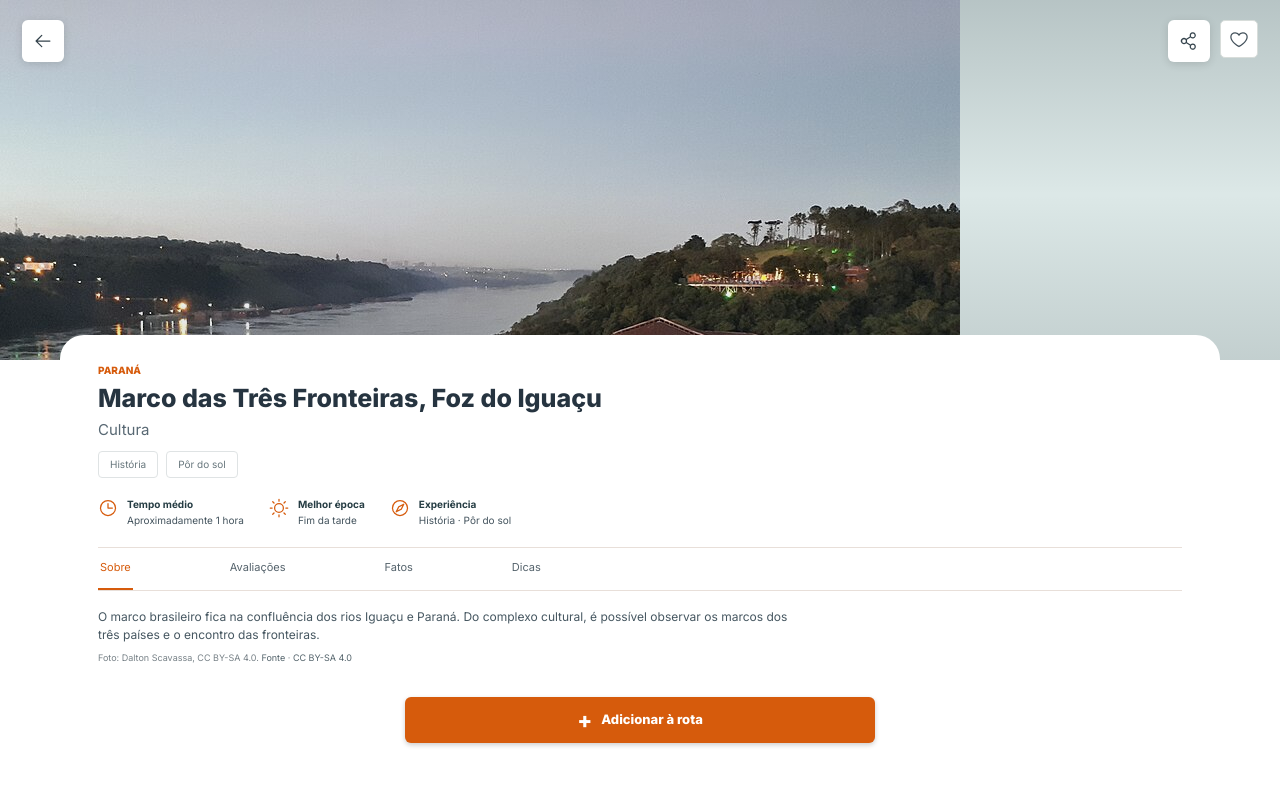
Test case: tela Detalhe do destino › copia o link quando o navegador não tem compartilhamento nativo
The width and height of the screenshot is (1280, 800).
Step 1. Click the button named "Compartilhar destino" → [1189, 41], box [1168, 20, 1210, 62]
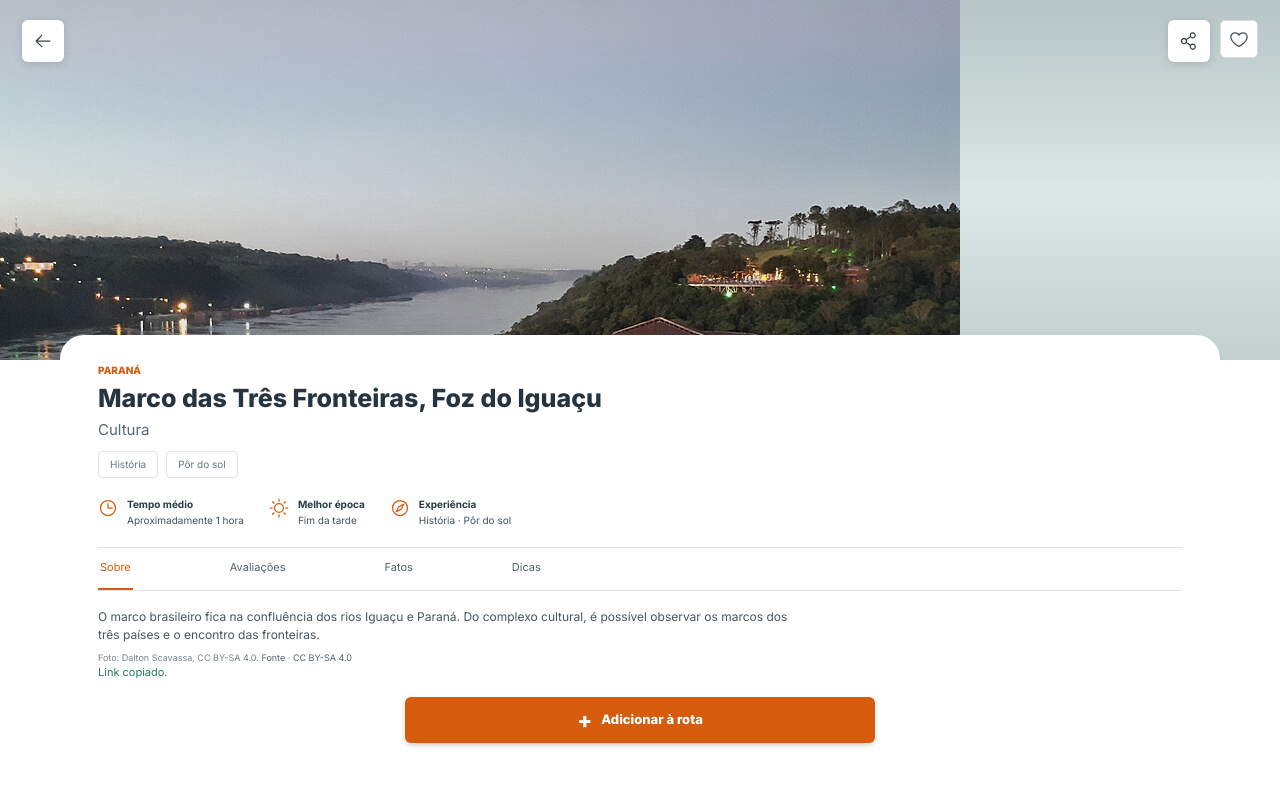
Now the text "Link copiado." is shown, box [98, 665, 168, 679]
